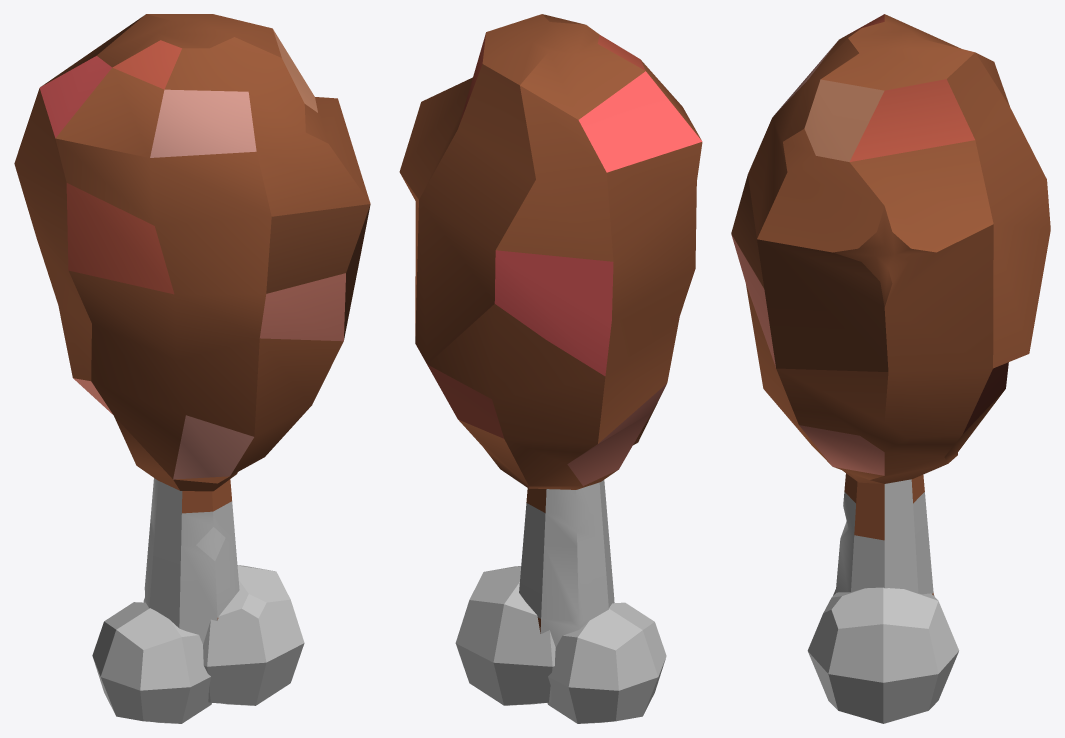
The model's file is Chicken's leg.fbx.
3 renders of one model, left to right at view 1: azimuth 30°, elevation 25°; view 2: azimuth 150°, elevation 25°; view 3: azimuth 270°, elevation 25°, orthographic. The views are drawn at different scales.
Parts seen in each view (by area): view 1: Chicken's leg; view 2: Chicken's leg; view 3: Chicken's leg.
Boxes of the visible parts, bbox=[...] form: Chicken's leg: bbox=[14, 14, 370, 723]; Chicken's leg: bbox=[399, 14, 702, 723]; Chicken's leg: bbox=[731, 14, 1050, 723].
Bounding box in the file's own units: 40.25 × 90.54 × 39.31.
